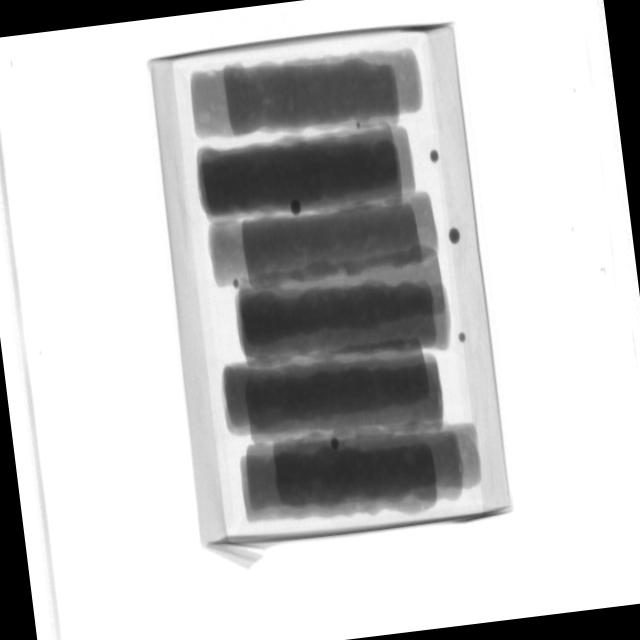ym: (291, 199, 304, 217), (449, 227, 461, 245), (430, 150, 441, 164), (331, 438, 341, 451), (458, 332, 468, 342), (233, 280, 242, 290), (357, 124, 363, 130)
